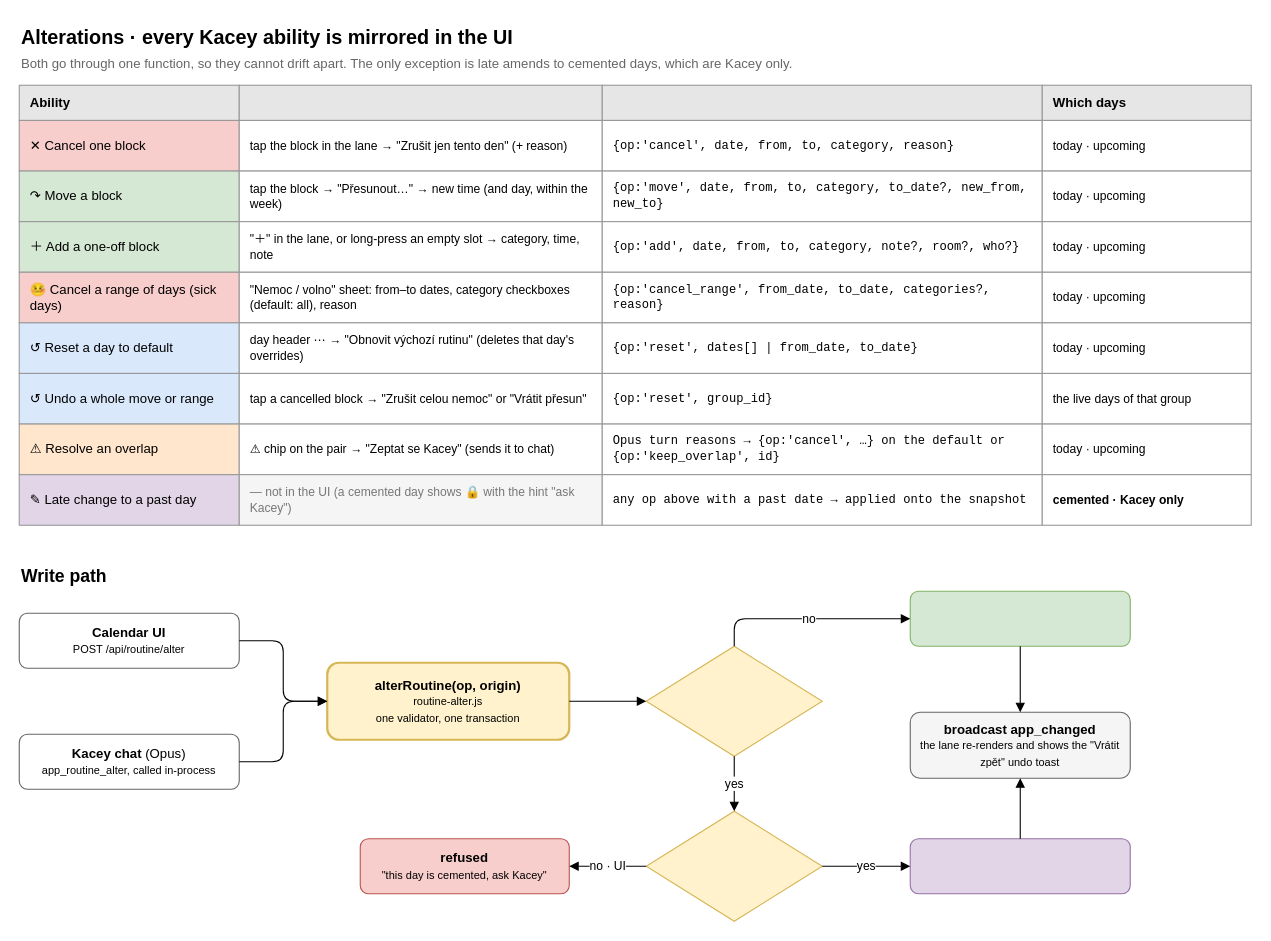
This 1271x941 diagram has some shape labels left out. The shapes that lost their labels are listed below. From the top down, each one's centre as x and y in pixels, then its label:
the point at 420,102: In the UI
the point at 821,102: Kacey · app_routine_alter
the point at 1019,618: write override rows kacey_routine_override
the point at 733,700: is the date cemented?
the point at 733,865: origin = kacey?
the point at 1019,866: amend the snapshot prev_blocks kept · amended_at set
